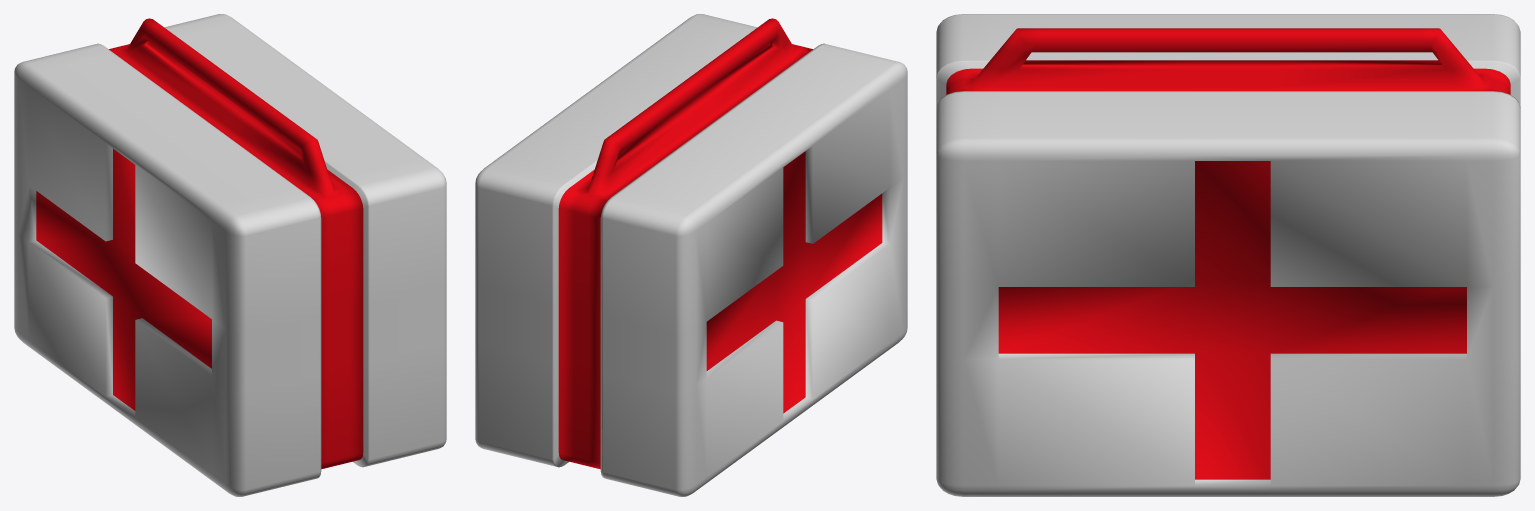
Rendered from LD Jam health pack.fbx.
3 views of the same model, side by side, from view 1: azimuth 30°, elevation 25°; view 2: azimuth 150°, elevation 25°; view 3: azimuth 270°, elevation 25° (orthographic). The views are drawn at different scales.
Parts seen in each view (by area): view 1: Cube.003; view 2: Cube.003; view 3: Cube.003.
Boxes of the visible parts, x1,y1,x2,y2 form: Cube.003: (14,14,446,496); Cube.003: (475,14,907,496); Cube.003: (936,14,1520,496).
Bounding box in the file's own units: 32.71 × 45.54 × 59.61.
